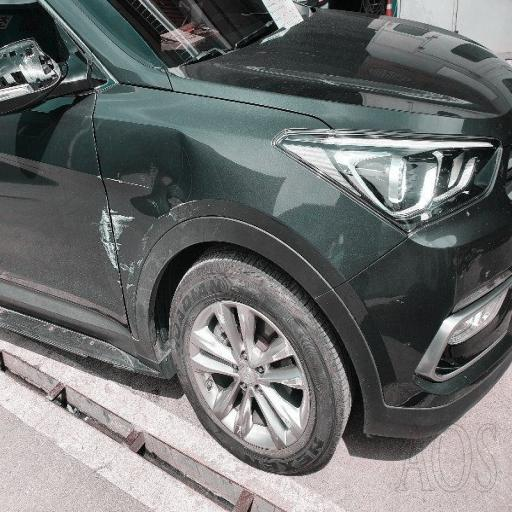dent: (111, 100, 341, 241)
scratch: (89, 185, 140, 290)
